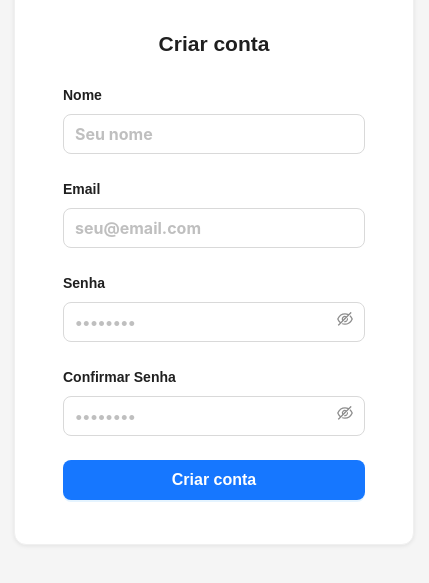
Test case: NewUserForm › validates that the name is required
The image size is (429, 583).
Clear the field with placeholder "Seu nome" at coordinates (214, 134), box [63, 114, 365, 154]
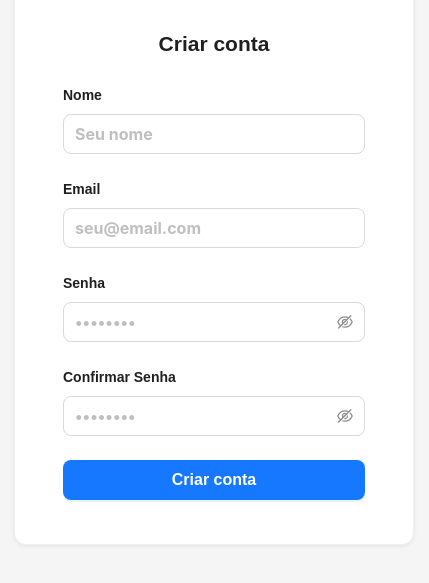
Type "a@b.com" into the field with placeholder "seu@email.com" at coordinates (214, 228), box [63, 208, 365, 248]
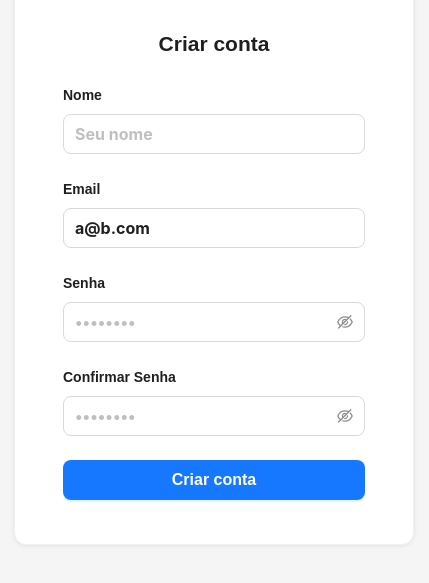
Type "123456" into the 1st password field with placeholder "••••••••" at coordinates (204, 322), box [75, 310, 333, 334]
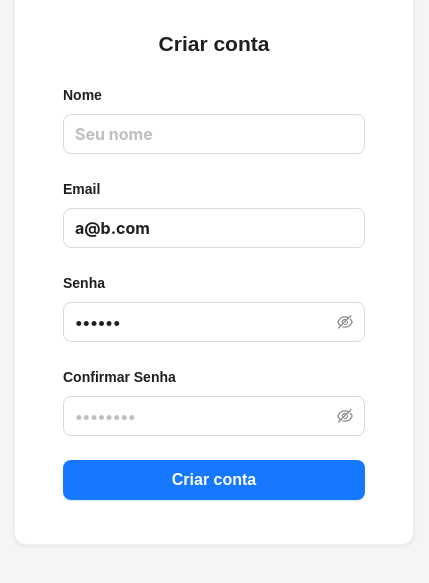
Type "123456" into the password field with placeholder "••••••••" at coordinates (204, 416), box [75, 404, 333, 428]
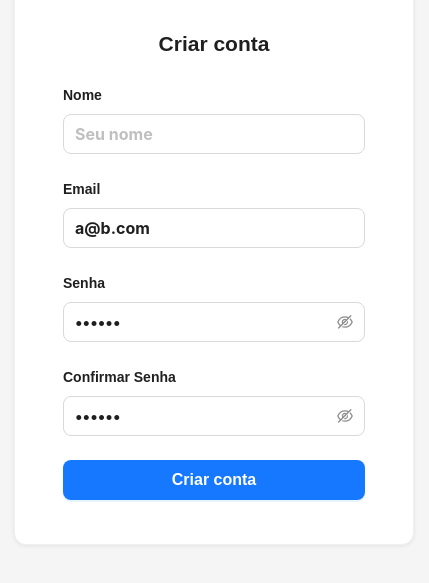
Click the button "Criar conta" at coordinates (214, 480), box [63, 460, 365, 500]
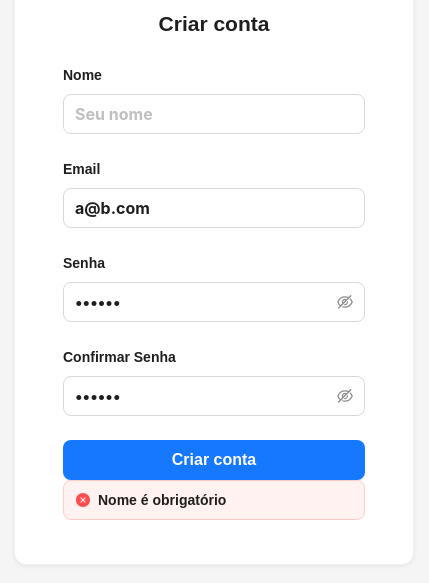
Expected: the text "Nome é obrigatório" is shown, [98, 492, 226, 508]
